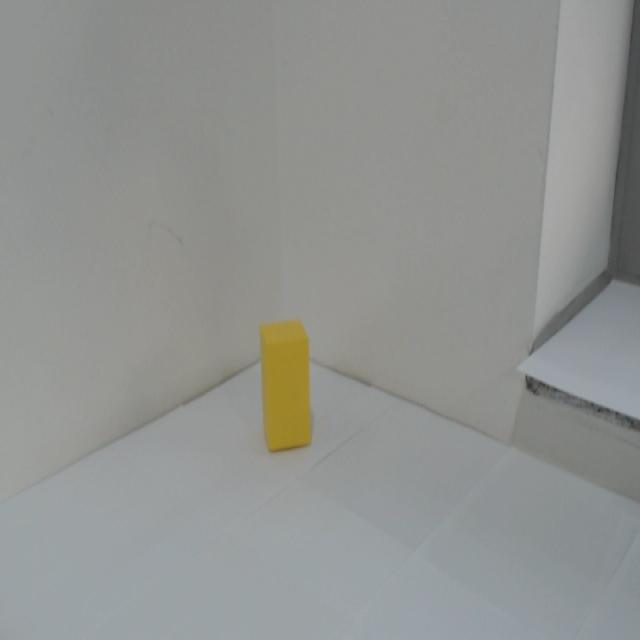cube: (255, 311, 318, 465)
